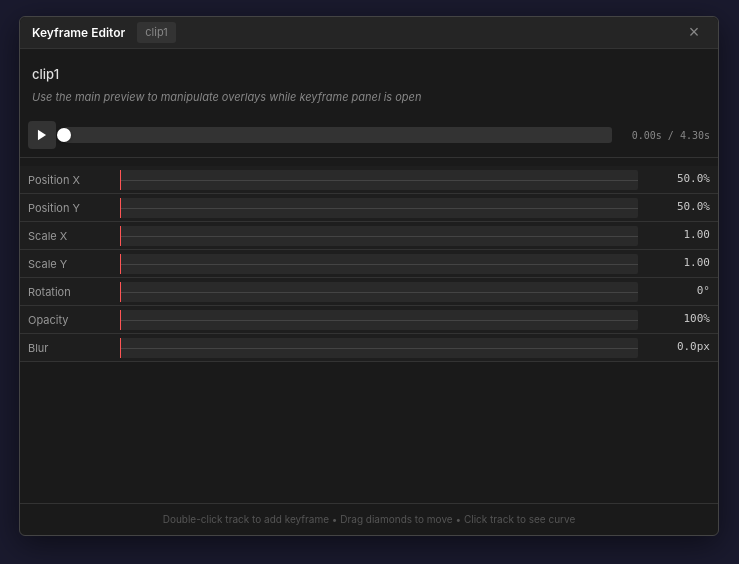
Test case: KeyframePanel › choosing a property › opens the graph for the property whose track is clicked
Click the element showing "Rotation 0°". click: click(369, 292)
box: [20,278,718,306]
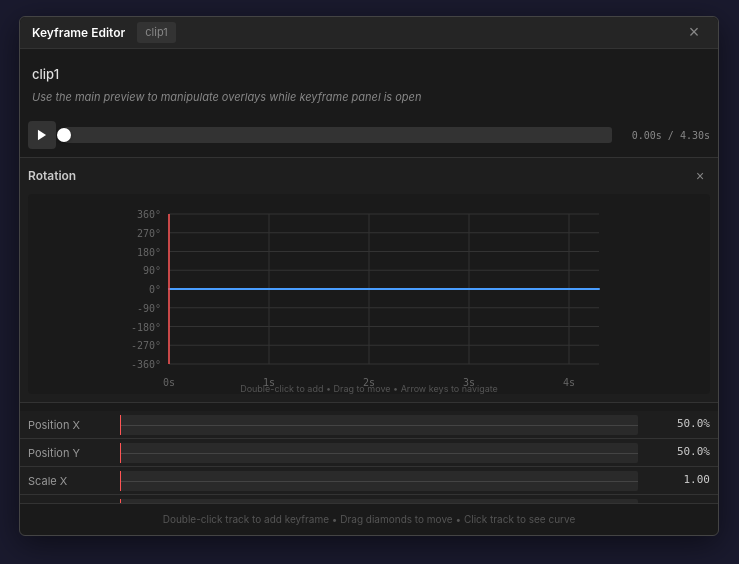
Result: the text "Rotation" is shown 2 times
